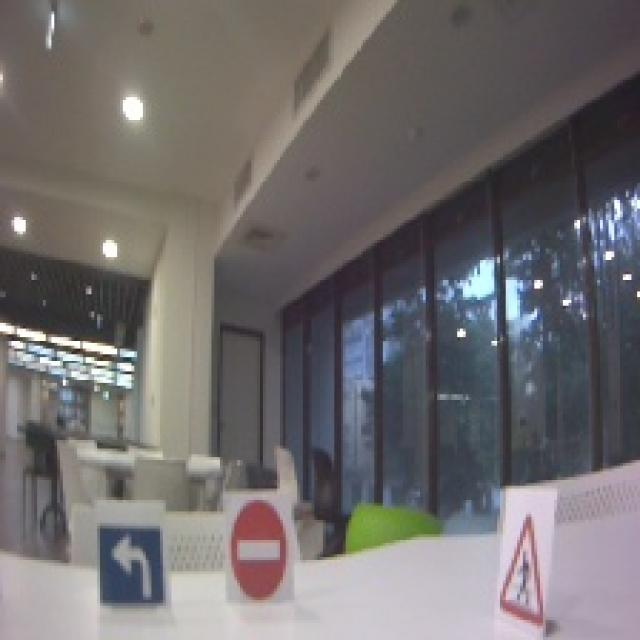DoNotEnterSign: (229, 499, 290, 600)
